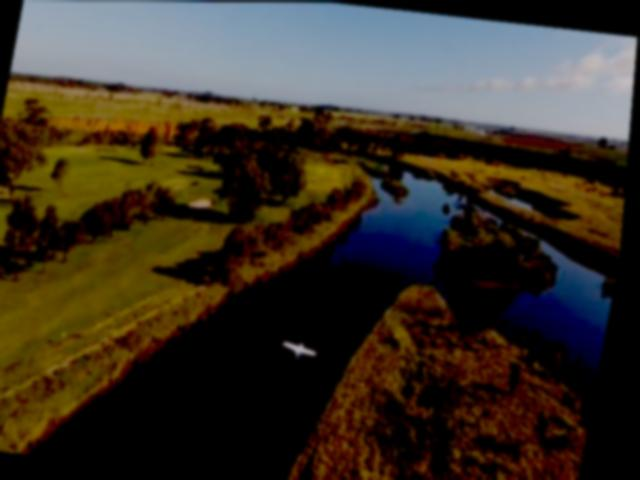uav: (285, 334, 329, 366)
